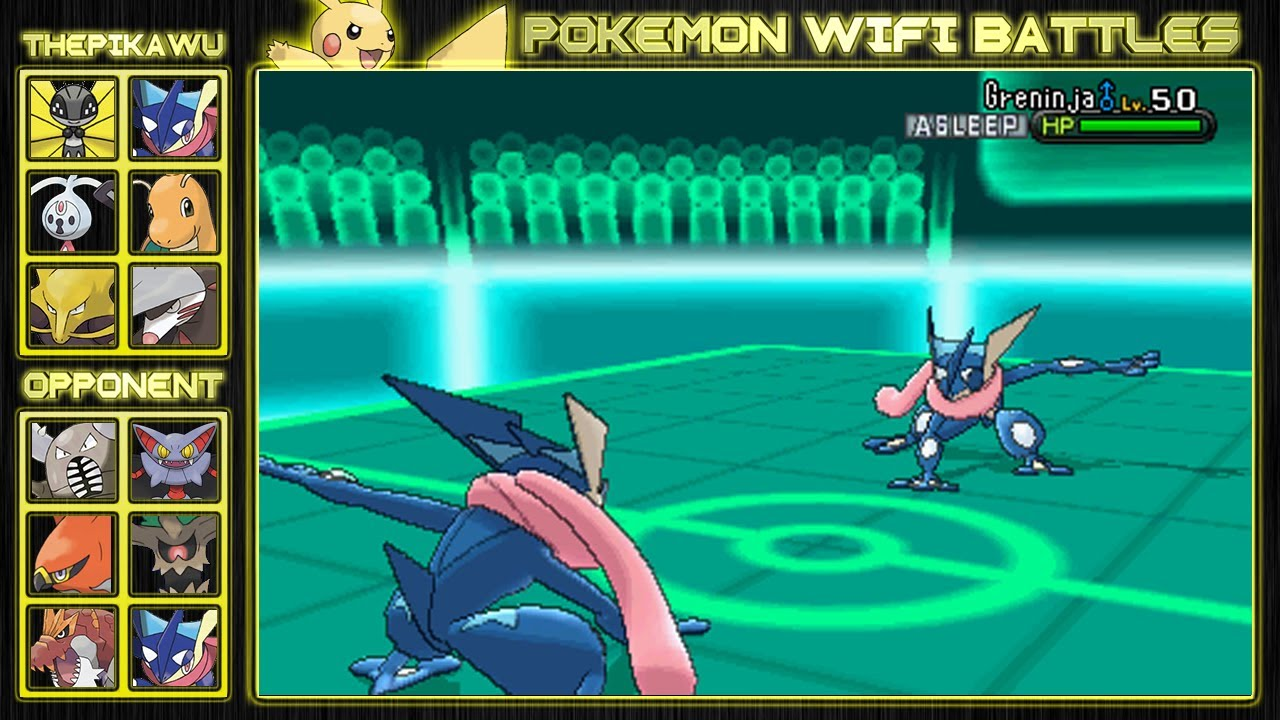greninja: (265, 382, 720, 702), (870, 302, 1170, 497), (125, 77, 225, 167), (130, 602, 220, 697)
